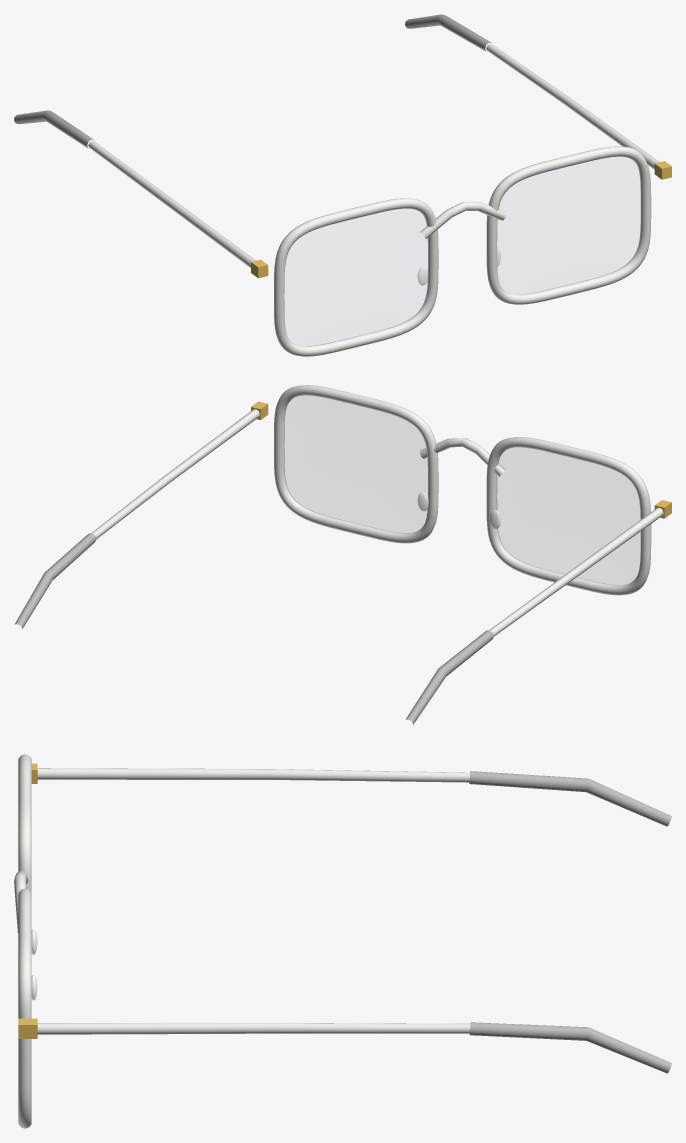
3 renders of one model, top to bottom at view 1: azimuth 30°, elevation 25°; view 2: azimuth 150°, elevation 25°; view 3: azimuth 270°, elevation 25°, orthographic. The views are drawn at different scales.
Parts seen in each view (by area): view 1: Lens_L, Lens_R, Rim_R, Rim_L, Temple_L, Temple_R, TempleTip_R, TempleTip_L, Bridge; view 2: Lens_R, Lens_L, Rim_R, Rim_L, Temple_L, Temple_R, TempleTip_L, TempleTip_R, Bridge; view 3: Temple_L, Temple_R, Rim_R, TempleTip_L, TempleTip_R, Rim_L.
Boxes of the visible parts, box(x1,y1,x2,y2) form: Lens_L: box(284, 209, 428, 346); Lens_R: box(497, 157, 640, 294); Rim_R: box(486, 146, 651, 304); Rim_L: box(274, 198, 438, 356); Temple_L: box(88, 141, 255, 268); Temple_R: box(486, 44, 659, 169); TempleTip_R: box(405, 14, 491, 51); TempleTip_L: box(14, 110, 93, 148); Bridge: box(420, 202, 506, 238); Lens_R: box(284, 395, 427, 532); Lens_L: box(496, 447, 640, 584); Rim_R: box(274, 385, 438, 543); Rim_L: box(486, 437, 651, 595); Temple_L: box(489, 507, 663, 636); Temple_R: box(91, 409, 259, 539); TempleTip_L: box(405, 630, 493, 724); TempleTip_R: box(15, 533, 96, 629); Bridge: box(420, 438, 505, 476); Temple_L: box(37, 768, 469, 782); Temple_R: box(37, 1023, 469, 1034); Rim_R: box(18, 888, 31, 1128); TempleTip_L: box(469, 771, 671, 826); TempleTip_R: box(469, 1022, 671, 1073); Rim_L: box(18, 754, 31, 892).
Bounding box in the file's own units: 2.57 × 0.8222 × 2.73.
